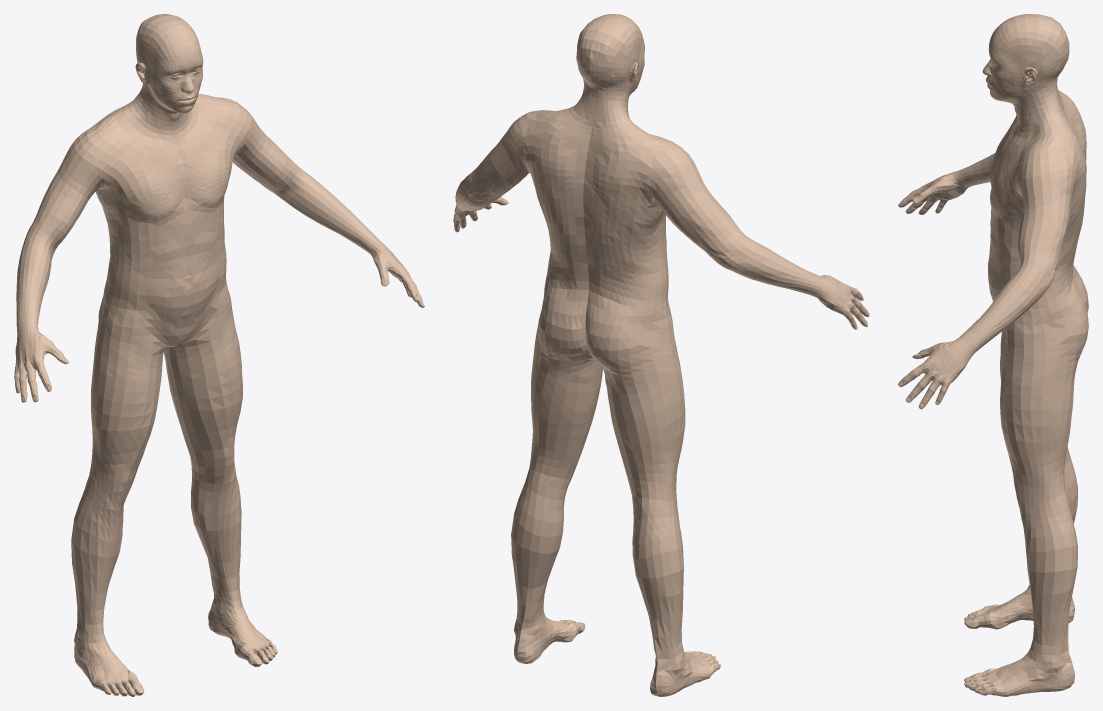
File: male-adult-heavy-strong.glb
3 renders of one model, left to right at view 1: azimuth 30°, elevation 25°; view 2: azimuth 150°, elevation 25°; view 3: azimuth 270°, elevation 25°, orthographic.
Parts seen in each view (by area): view 1: world; view 2: world; view 3: world.
Boxes of the visible parts, <box> form: world: <box>14,14,424,696</box>; world: <box>453,14,869,696</box>; world: <box>898,14,1088,696</box>.
Size of the model in its own units: 1.28 by 1.95 by 0.5278.
